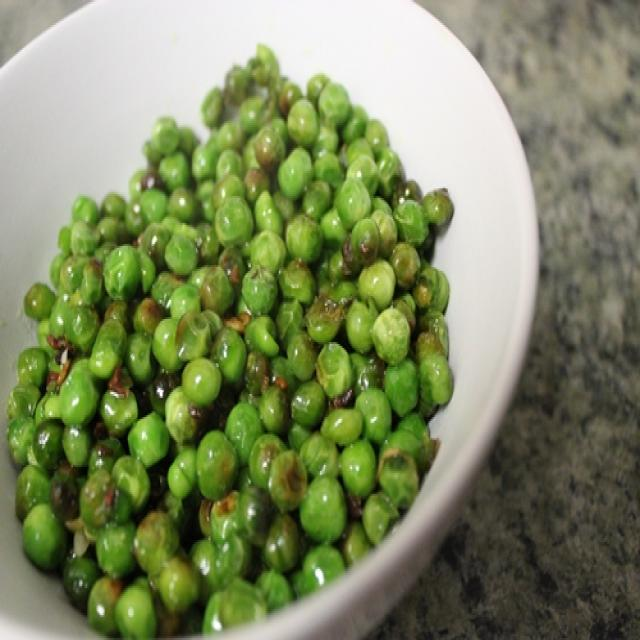pea: (5, 38, 465, 640)
